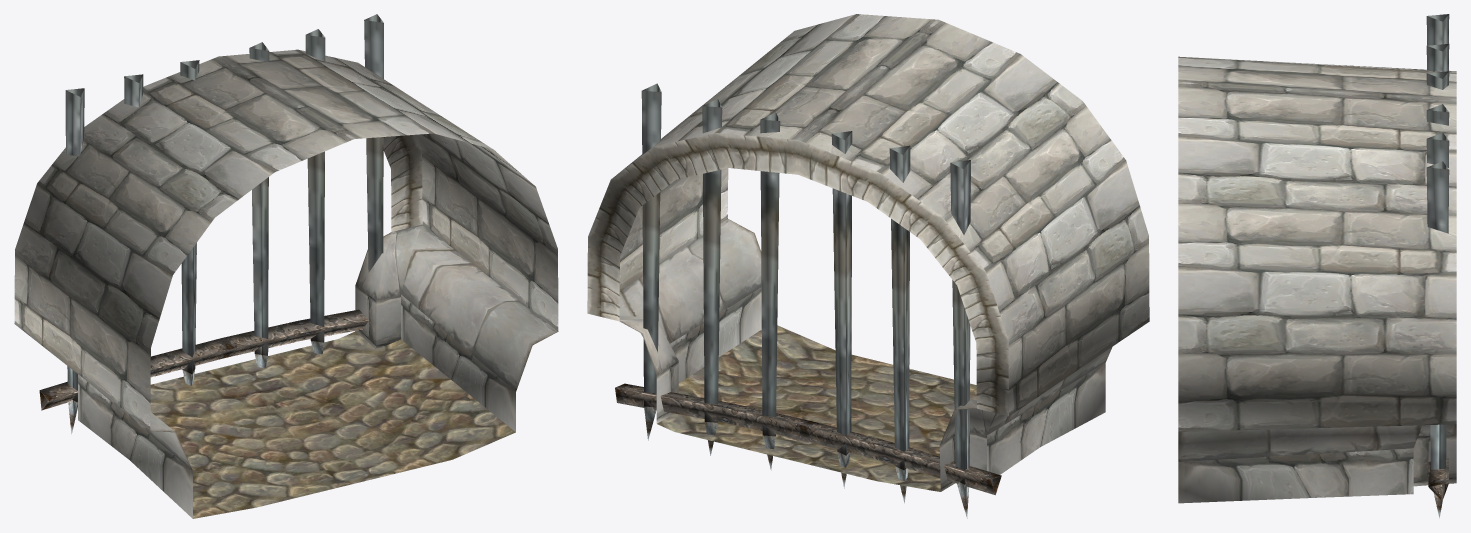
The model's file is stormwind_235.fbx.
The picture shows the model from 3 angles, left to right: view 1: azimuth 30°, elevation 25°; view 2: azimuth 150°, elevation 25°; view 3: azimuth 270°, elevation 25°; orthographic projection. The views are drawn at different scales.
Parts seen in each view (by area): view 1: stormwind_235_4, stormwind_235_46, stormwind_235_14, stormwind_235_11, stormwind_235_5; view 2: stormwind_235_4, stormwind_235_14, stormwind_235_5, stormwind_235_46, stormwind_235_11; view 3: stormwind_235_4, stormwind_235_11, stormwind_235_14.
Part boxes in pixels (x1,y1,x2,y2): stormwind_235_4: (14,49,558,518); stormwind_235_46: (150,331,515,518); stormwind_235_14: (39,14,383,434); stormwind_235_11: (93,224,557,470); stormwind_235_5: (383,134,422,231); stormwind_235_4: (613,14,1149,491); stormwind_235_14: (615,83,1001,518); stormwind_235_5: (587,133,1008,416); stormwind_235_46: (657,325,976,491); stormwind_235_11: (619,219,1112,444); stormwind_235_4: (1178,56,1456,503); stormwind_235_11: (1178,424,1456,462); stormwind_235_14: (1426,14,1449,518).
Size of the model in its own units: 18.28 by 15.08 by 10.55.
